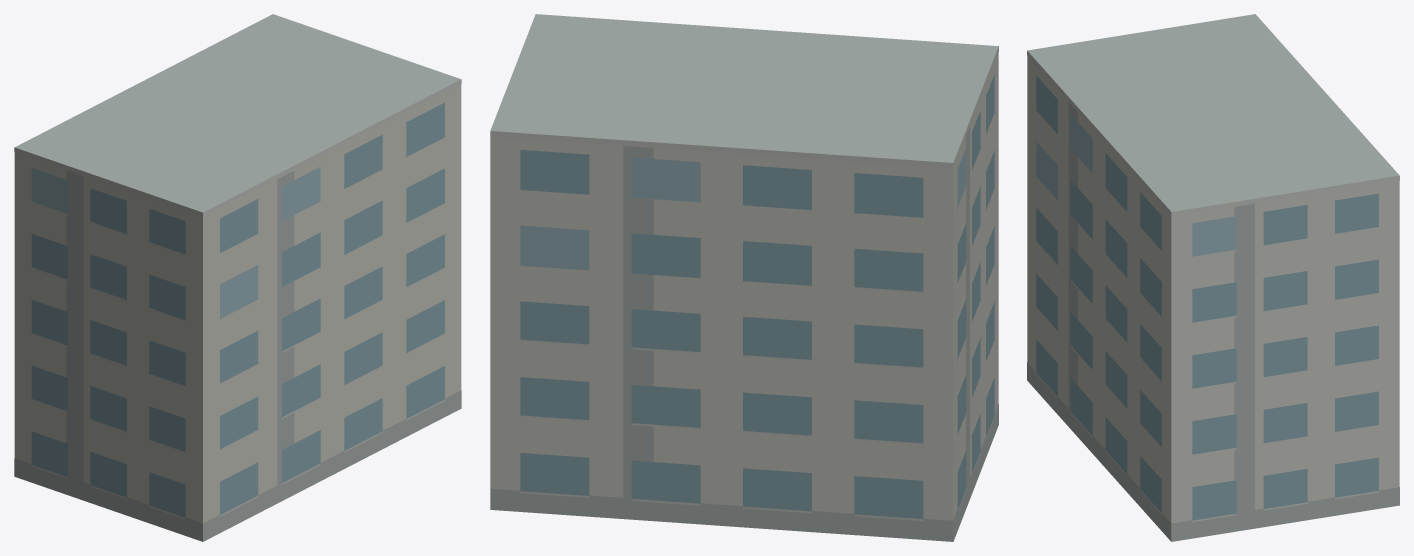
The model's file is survey-upis-32855866.glb.
3 renders of one model, left to right at view 1: azimuth 30°, elevation 25°; view 2: azimuth 150°, elevation 25°; view 3: azimuth 270°, elevation 25°, orthographic. The views are drawn at different scales.
Parts seen in each view (by area): view 1: survey-upis-32855866.tmp; view 2: survey-upis-32855866.tmp; view 3: survey-upis-32855866.tmp.
Boxes of the visible parts, x1,y1,x2,y2 form: survey-upis-32855866.tmp: [14, 14, 461, 541]; survey-upis-32855866.tmp: [490, 14, 998, 541]; survey-upis-32855866.tmp: [1027, 14, 1399, 541].
Size of the model in its own units: 21.03 by 16.33 by 16.73.
